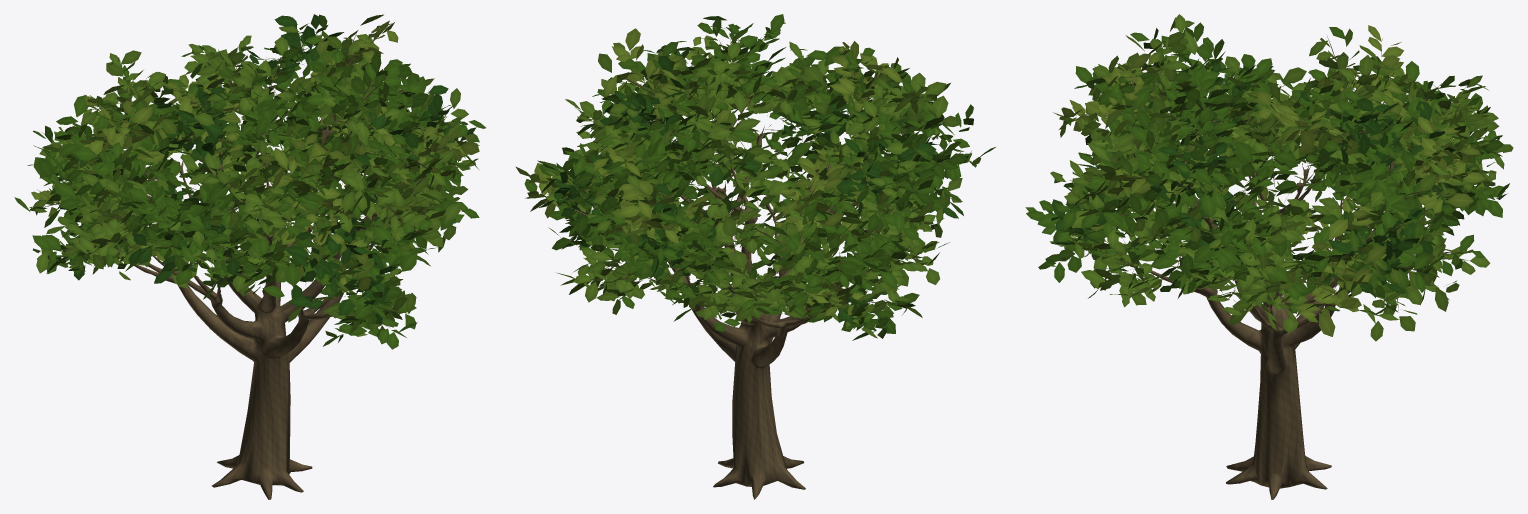
File: Broadleaf_LOD1.glb
3 views of the same model, side by side, from view 1: azimuth 30°, elevation 25°; view 2: azimuth 150°, elevation 25°; view 3: azimuth 270°, elevation 25° (orthographic). The views are drawn at different scales.
Parts seen in each view (by area): view 1: Broadleaf_Layered_Leaf_Clusters.006, Broadleaf_Tapered_Branch_Network.007, Broadleaf_Terminal_Shoots.006; view 2: Broadleaf_Layered_Leaf_Clusters.006, Broadleaf_Tapered_Branch_Network.007, Broadleaf_Terminal_Shoots.006; view 3: Broadleaf_Layered_Leaf_Clusters.006, Broadleaf_Tapered_Branch_Network.007, Broadleaf_Terminal_Shoots.006.
Part boxes in pixels (bbox=[...]): Broadleaf_Layered_Leaf_Clusters.006: bbox=[14, 14, 485, 349]; Broadleaf_Tapered_Branch_Network.007: bbox=[127, 116, 386, 499]; Broadleaf_Terminal_Shoots.006: bbox=[42, 25, 456, 327]; Broadleaf_Layered_Leaf_Clusters.006: bbox=[515, 14, 995, 340]; Broadleaf_Tapered_Branch_Network.007: bbox=[667, 115, 877, 499]; Broadleaf_Terminal_Shoots.006: bbox=[541, 29, 950, 315]; Broadleaf_Layered_Leaf_Clusters.006: bbox=[1025, 14, 1513, 341]; Broadleaf_Tapered_Branch_Network.007: bbox=[1116, 118, 1394, 499]; Broadleaf_Terminal_Shoots.006: bbox=[1060, 36, 1479, 310].
Bounding box in the file's own units: 8 × 7.97 × 8.01.
2 materials, 2 textured.
